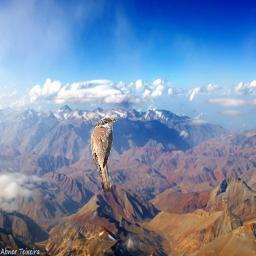Cuckoo: (91, 118, 118, 192)
